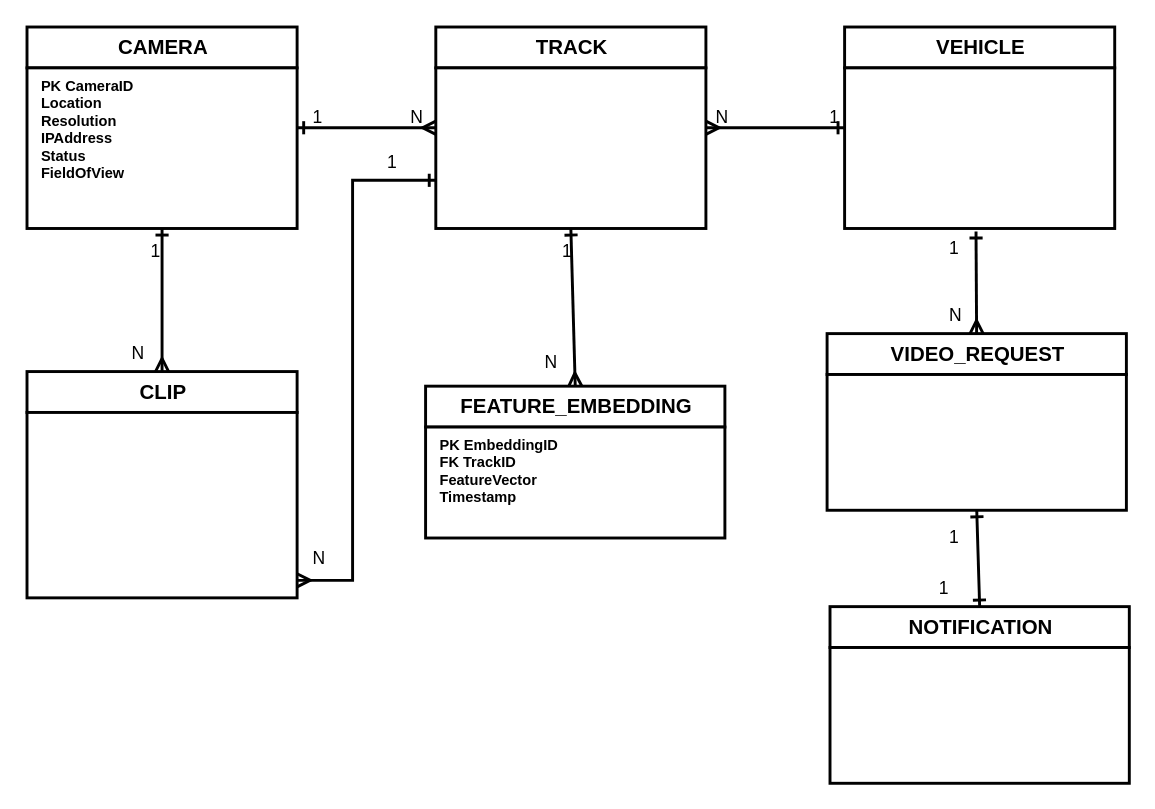
Image size: 1155x809. Some labels were removed from this diagram. The shapes that lost their labels are listed below. From the top down, each one's box as (x1, y1, x2, y2) in pixels, then its label:
(434, 66, 707, 229): PK TrackID FK CameraID FK VehicleID StartTime EndTime BBoxData
(842, 66, 1115, 229): PK VehicleID GlobalTrackID Color PlateNumber FirstSeen LastSeen
(825, 372, 1127, 511): PK RequestID FK VehicleID RequestTime RecipientEmail Status
(25, 410, 298, 599): PK ClipID FK CameraID FK TrackID StartTime EndTime FilePath Resolution
(828, 645, 1130, 784): PK NotificationID FK RequestID SentTime VideoPath Status
